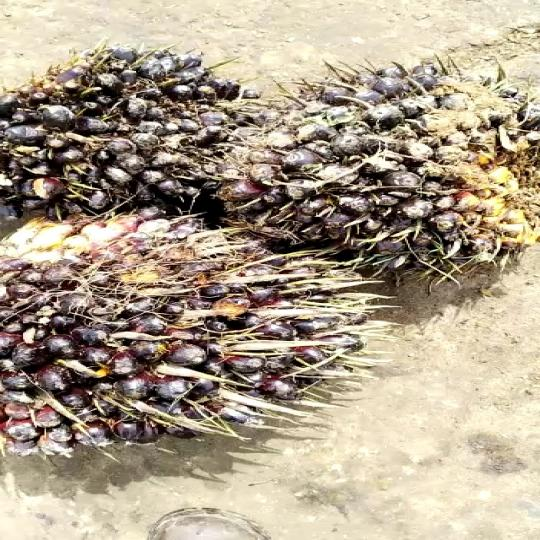mentah: (0, 219, 384, 471), (262, 63, 540, 275), (1, 51, 248, 220)
